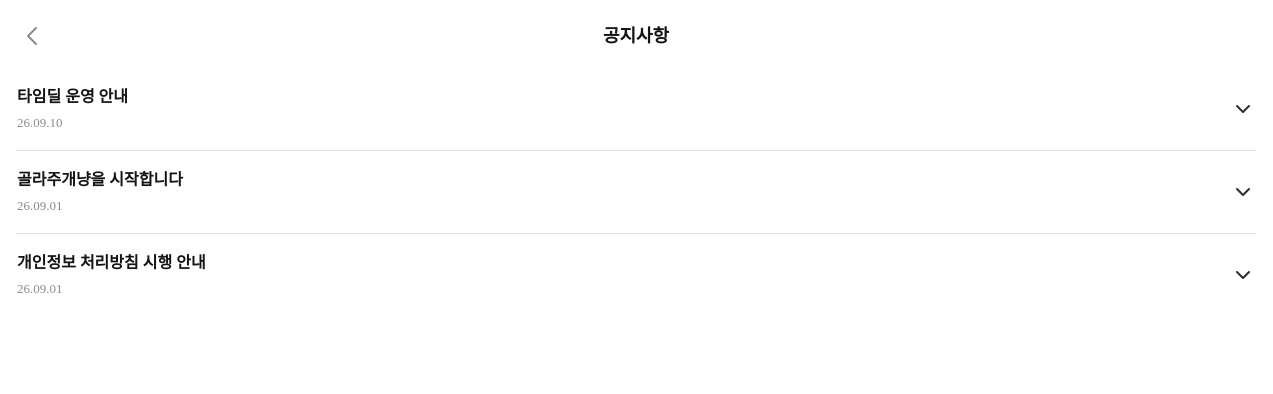
Scenario: 공지는 접혀 있다가 제목을 눌러야 펼쳐진다
Click the button "타임딜 운영 안내 26.09.10".
click(73, 96)  # box [16,68,1256,150]
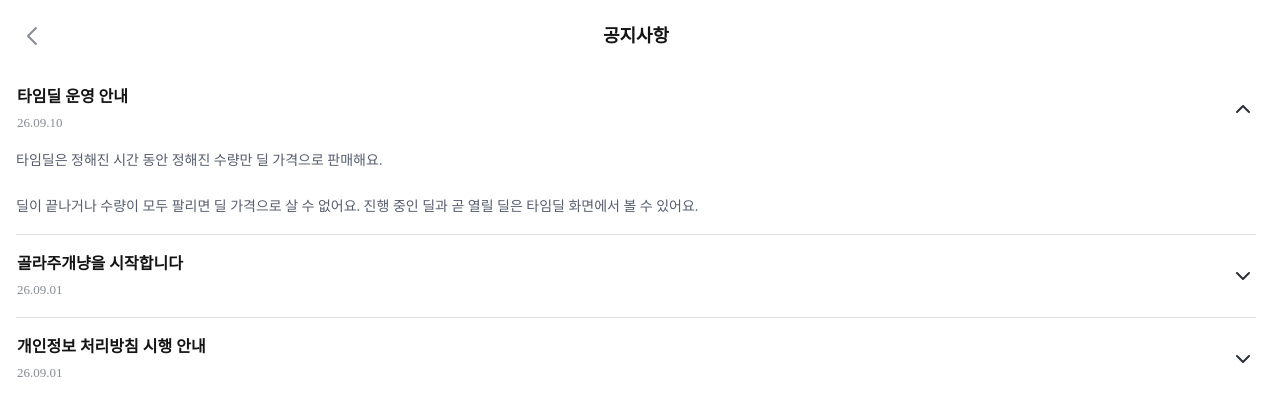
expect the button "타임딜 운영 안내 26.09.10" is expanded: met, box [16,68,1256,150]
expect the text "타임딜은 정해진 시간 동안 정해진 수량만 딜 가격으로 판매해요." is shown: met, box [16,153,382,168]
